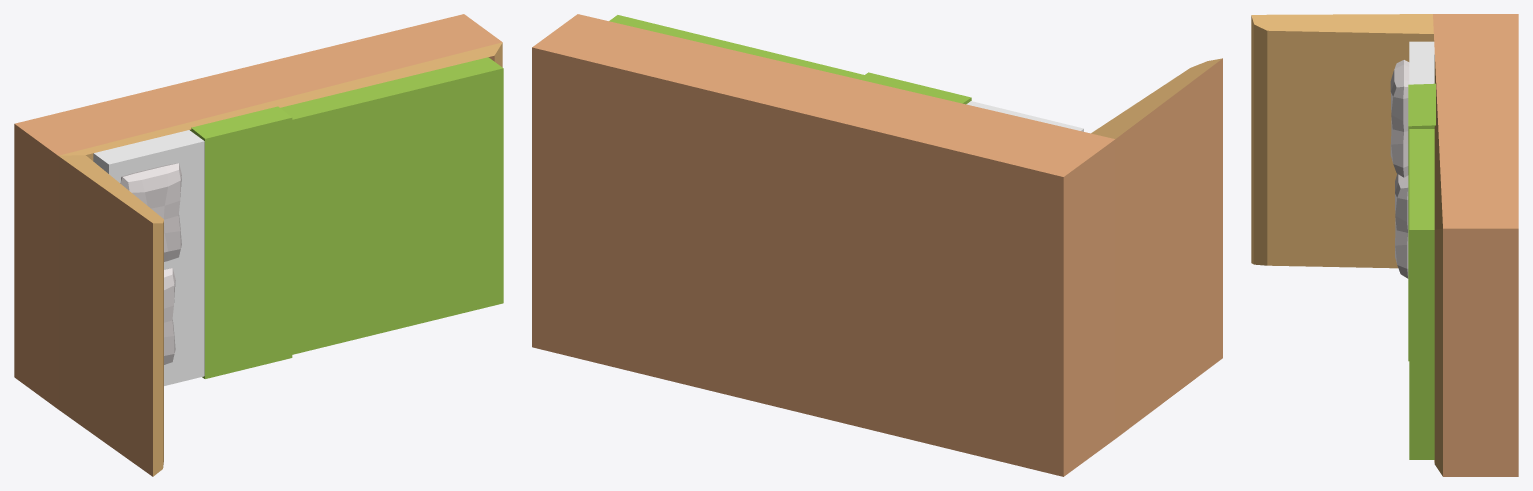
The model's file is Bed - kopie.glb.
The picture shows the model from 3 angles, left to right: view 1: azimuth 30°, elevation 25°; view 2: azimuth 150°, elevation 25°; view 3: azimuth 270°, elevation 25°; orthographic projection. The views are drawn at different scales.
Parts seen in each view (by area): view 1: Bed3, Bed3Wood, Pillow.003, Pillow.004; view 2: Bed3Wood, Bed3; view 3: Bed3Wood, Bed3, Pillow.003, Pillow.004.
Part boxes in pixels (x1,y1,x2,y2): Bed3: (93, 57, 503, 385); Bed3Wood: (14, 14, 502, 476); Pillow.003: (120, 163, 181, 261); Pillow.004: (164, 268, 175, 364); Bed3Wood: (532, 14, 1222, 476); Bed3: (609, 15, 1083, 131); Bed3Wood: (1251, 14, 1518, 476); Bed3: (1408, 41, 1435, 459); Pillow.003: (1390, 60, 1409, 177); Pillow.004: (1395, 174, 1408, 278).
Bounding box in the file's own units: 12.15 × 6.55 × 6.4.
2 materials, 1 textured.
